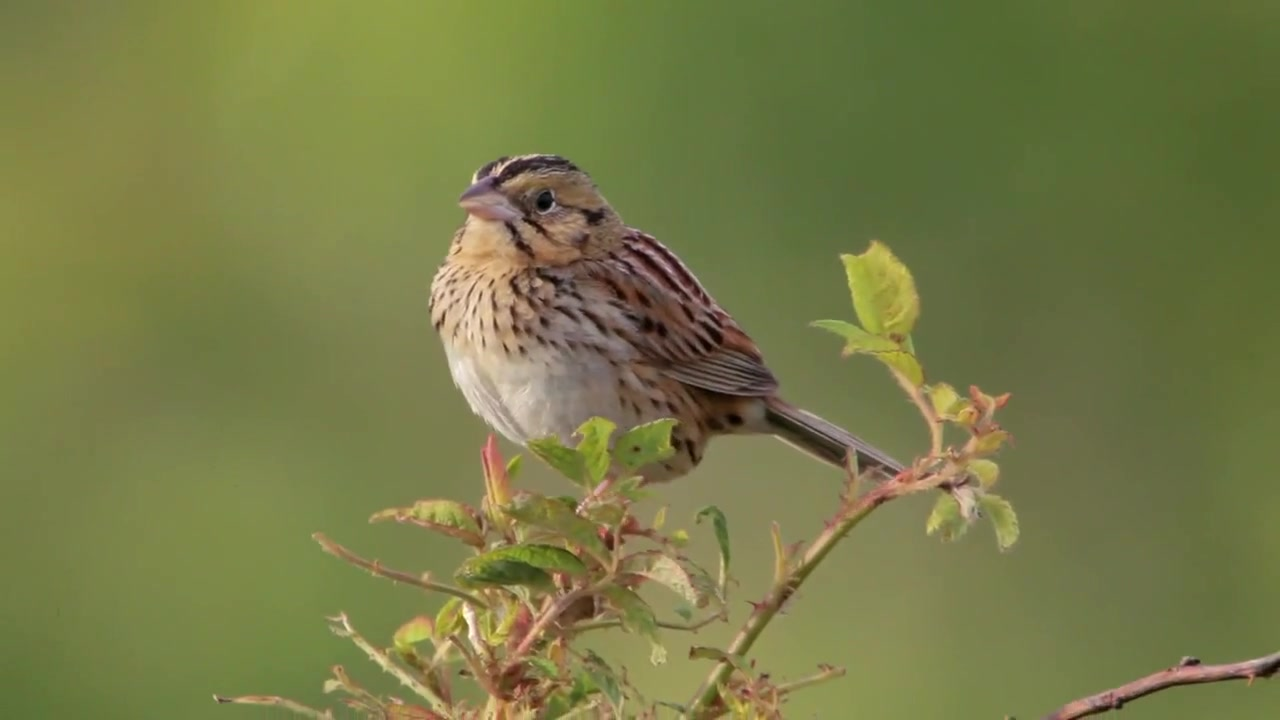bird: (427, 154, 930, 492)
